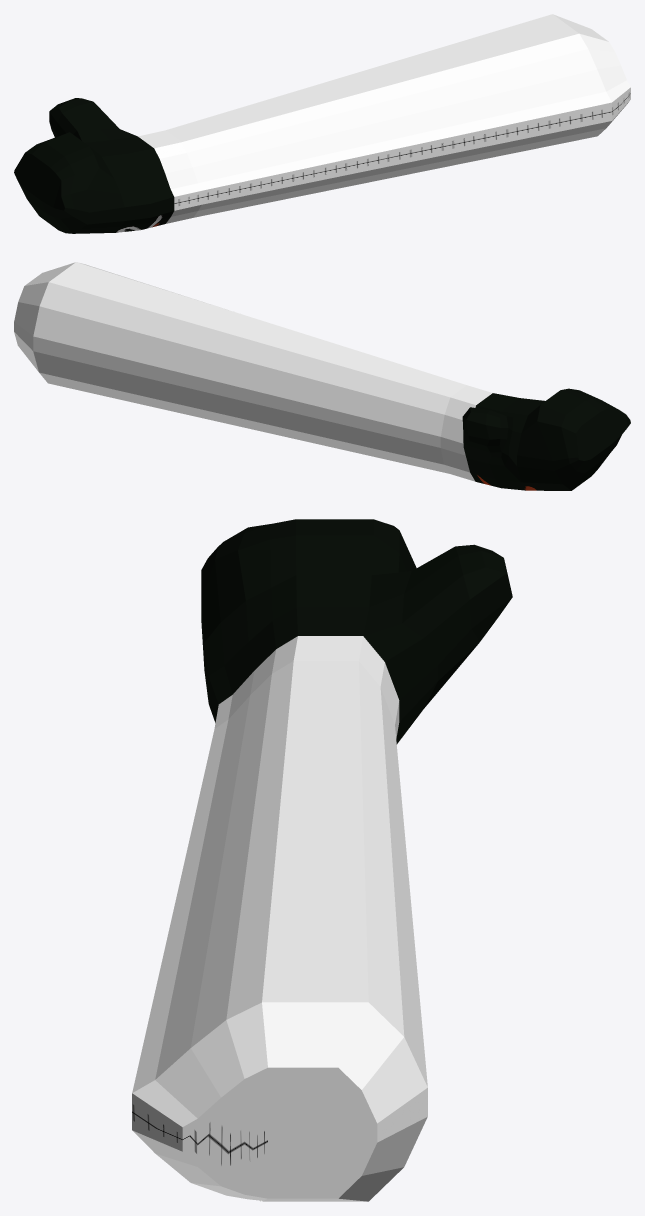
File: arm_right.FBX
3 renders of one model, top to bottom at view 1: azimuth 30°, elevation 25°; view 2: azimuth 150°, elevation 25°; view 3: azimuth 270°, elevation 25°, orthographic. The views are drawn at different scales.
Parts seen in each view (by area): view 1: Box001; view 2: Box001; view 3: Box001.
Boxes of the visible parts, left/top/right/bottom form: Box001: left=14, top=14, right=630, bottom=233; Box001: left=14, top=262, right=630, bottom=490; Box001: left=132, top=519, right=512, bottom=1201.
Bounding box in the file's own units: 9.36 × 1.63 × 2.75.
